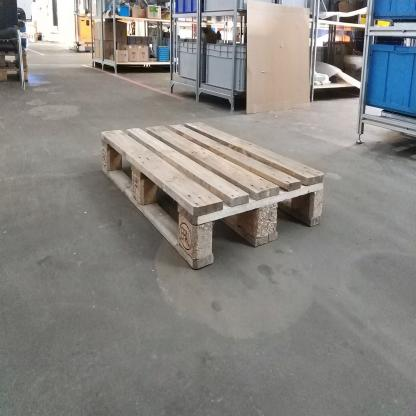BoxFace: (99, 118, 327, 274)
